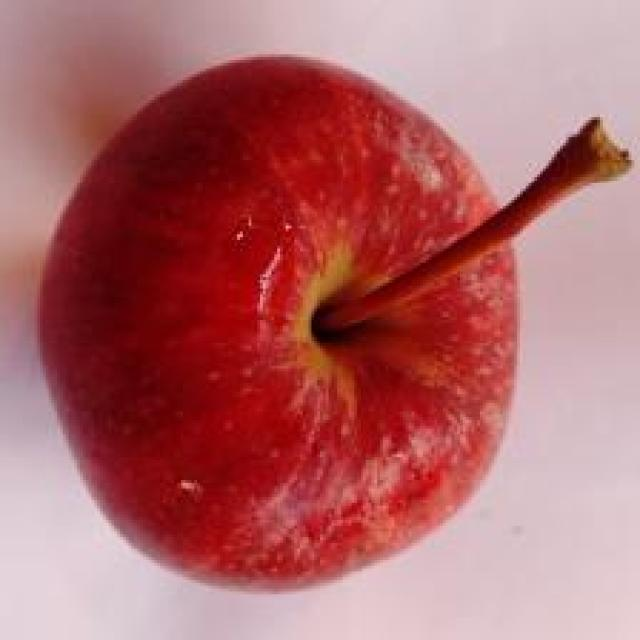apple: (19, 48, 639, 610)
